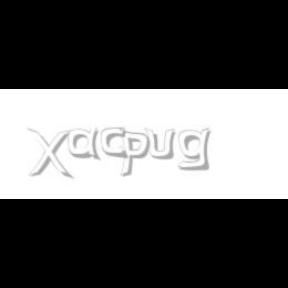P: (118, 128, 150, 178)
X: (27, 128, 71, 180)
a: (68, 128, 104, 160)
c: (101, 128, 130, 160)
g: (178, 128, 215, 171)
u: (144, 128, 180, 160)
